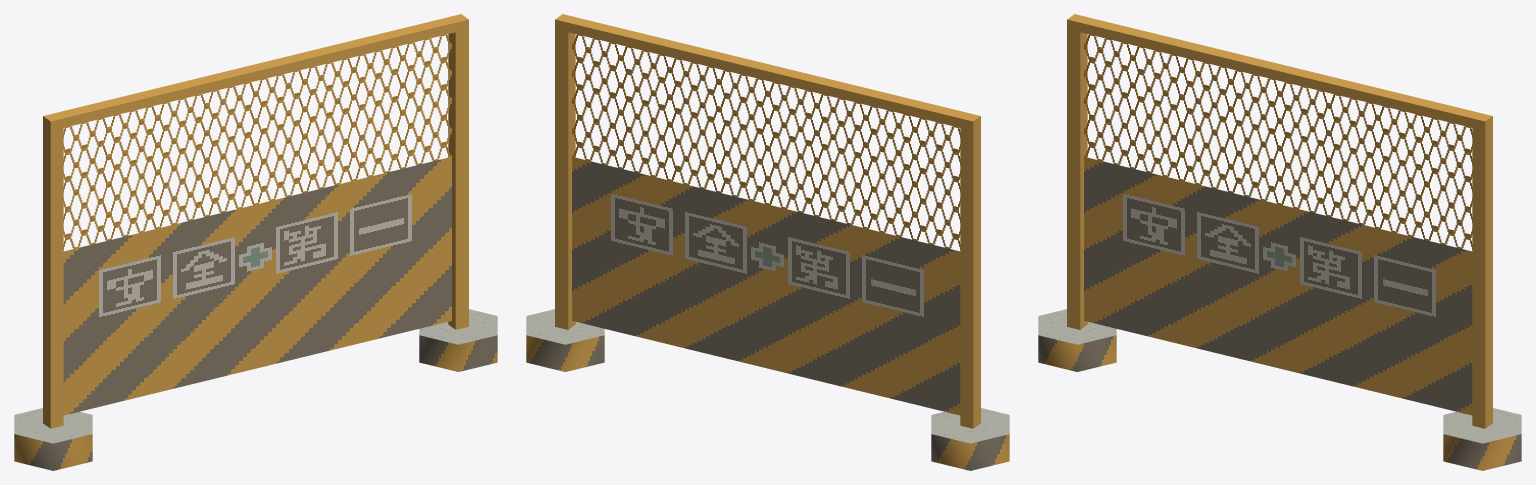
Rendered from 00e7_Barrier.glb.
3 renders of one model, left to right at view 1: azimuth 30°, elevation 25°; view 2: azimuth 150°, elevation 25°; view 3: azimuth 330°, elevation 25°, orthographic.
Parts seen in each view (by area): view 1: part_0; view 2: part_0; view 3: part_0.
Part boxes in pixels (left/top/right/bottom): part_0: left=14, top=14, right=497, bottom=470; part_0: left=526, top=14, right=1009, bottom=470; part_0: left=1038, top=14, right=1521, bottom=470.
Size of the model in its own units: 2.77 by 1.84 by 0.3897.
Materials: 1 (1 with a texture image).
